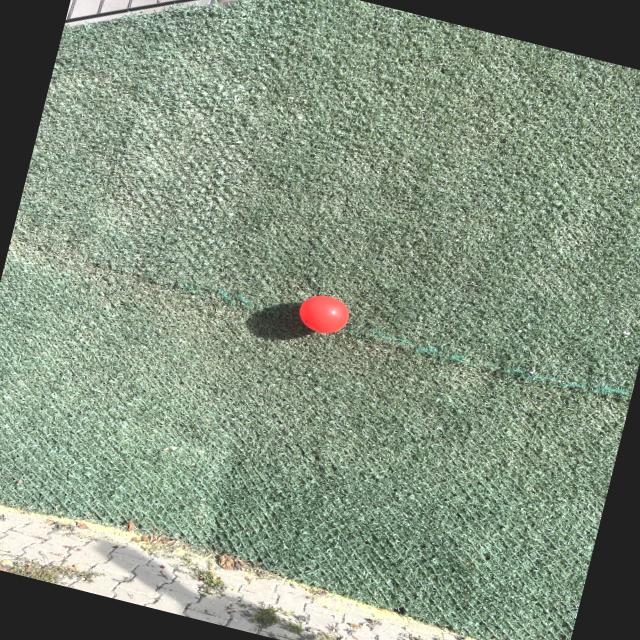balloon: (299, 295, 348, 332)
